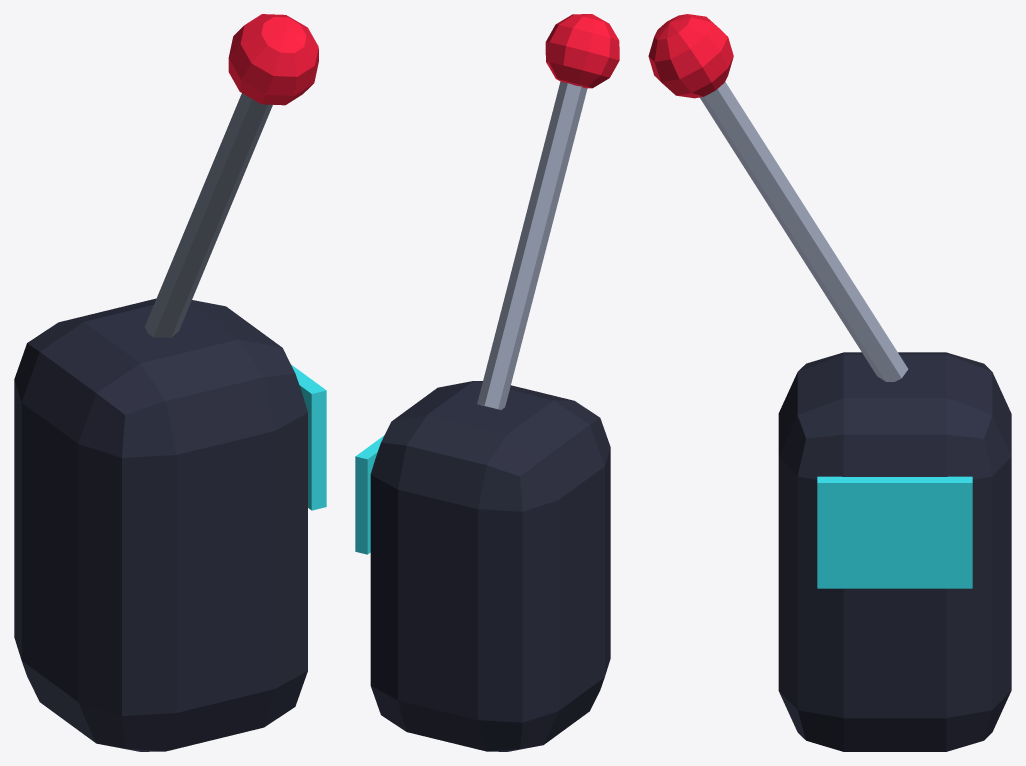
The model's file is pf_levier.glb.
3 views of the same model, side by side, from view 1: azimuth 30°, elevation 25°; view 2: azimuth 150°, elevation 25°; view 3: azimuth 270°, elevation 25° (orthographic). The views are drawn at different scales.
Parts seen in each view (by area): view 1: p_rbox.163, p_cyl.136, p_sph.405, p_box.1610; view 2: p_rbox.163, p_cyl.136, p_sph.405, p_box.1610; view 3: p_rbox.163, p_box.1610, p_cyl.136, p_sph.405.
Boxes of the visible parts, <box> form: p_rbox.163: <box>14,298,307,751</box>; p_cyl.136: <box>144,93,272,337</box>; p_sph.405: <box>228,14,318,105</box>; p_box.1610: <box>291,364,326,510</box>; p_rbox.163: <box>370,381,610,751</box>; p_cyl.136: <box>477,81,587,409</box>; p_sph.405: <box>545,14,619,88</box>; p_box.1610: <box>355,435,384,554</box>; p_rbox.163: <box>778,352,1011,751</box>; p_box.1610: <box>817,476,972,588</box>; p_cyl.136: <box>699,82,908,381</box>; p_sph.405: <box>648,14,733,98</box>.
Bounding box in the file's own units: 0.63 × 2.02 × 0.935.
